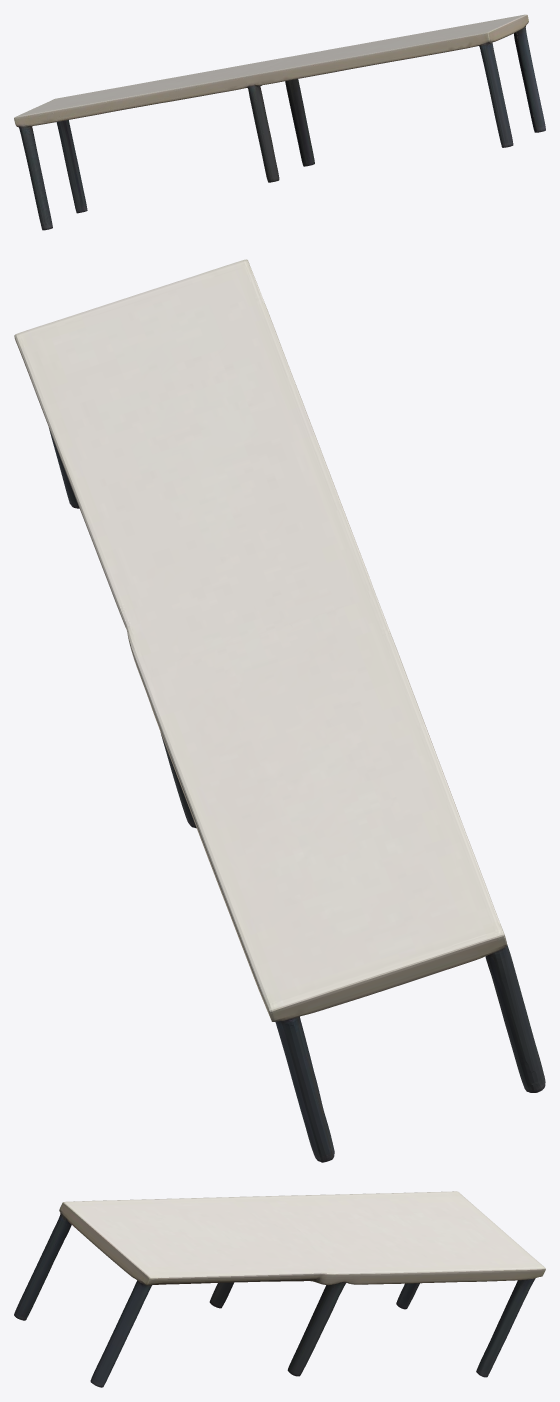
File: long_light-colored_wooden_table_in_foreground_000.glb
3 renders of one model, top to bottom at view 1: azimuth 30°, elevation 25°; view 2: azimuth 150°, elevation 25°; view 3: azimuth 270°, elevation 25°, orthographic. The views are drawn at different scales.
Parts seen in each view (by area): view 1: long_light-colored_wooden_table_in_foreground_000.obj; view 2: long_light-colored_wooden_table_in_foreground_000.obj; view 3: long_light-colored_wooden_table_in_foreground_000.obj.
Boxes of the visible parts, <box> form: long_light-colored_wooden_table_in_foreground_000.obj: <box>14,14,545,230</box>; long_light-colored_wooden_table_in_foreground_000.obj: <box>14,259,545,1162</box>; long_light-colored_wooden_table_in_foreground_000.obj: <box>14,1191,545,1387</box>.
Bounding box in the file's own units: 1.1 × 0.7263 × 1.17.
Materials: 1 (1 with a texture image).
